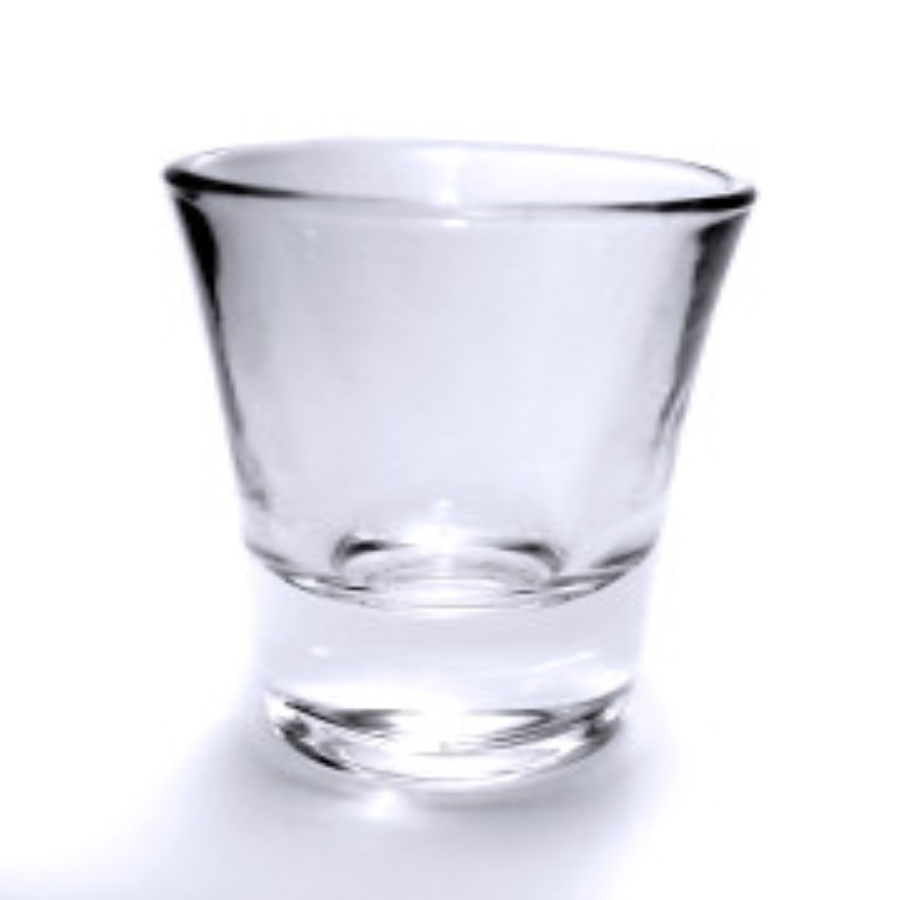whiskey: (196, 140, 737, 791)
